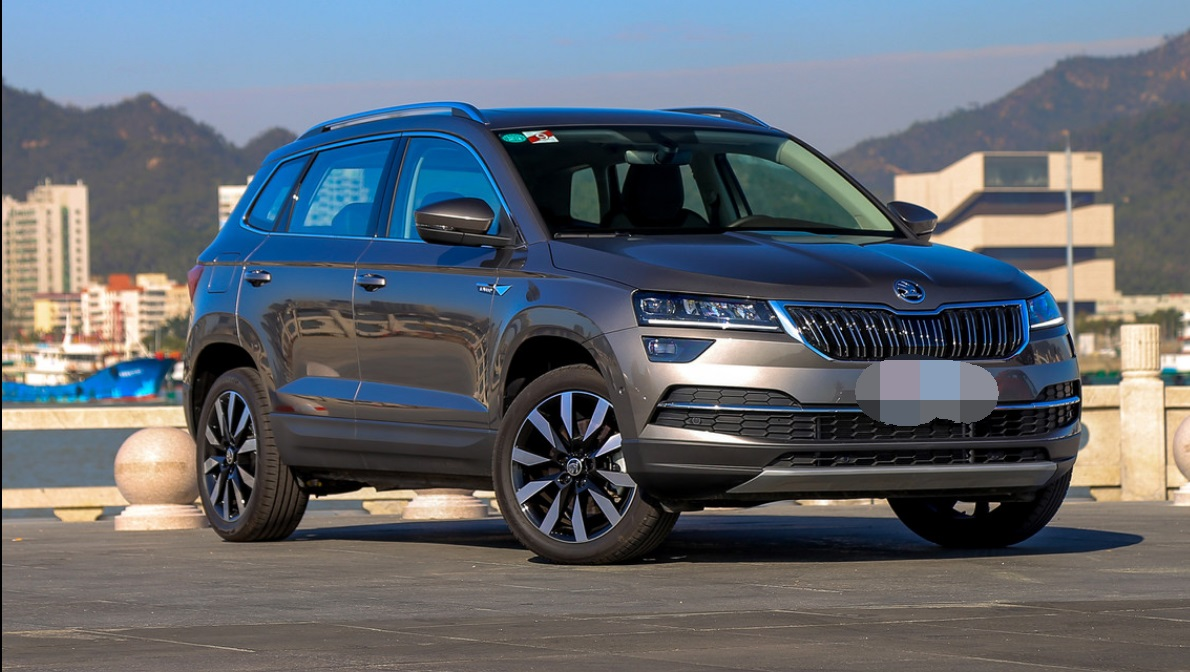SUV: (179, 99, 1088, 568)
